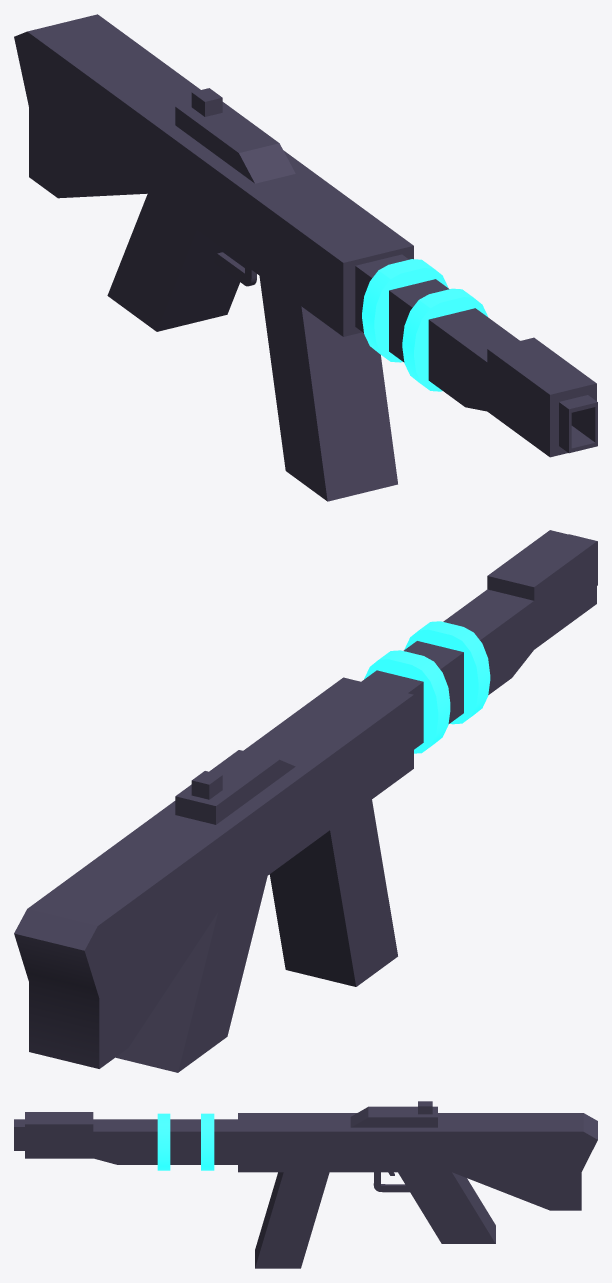
Rendered from Assualt Rifle.fbx.
3 renders of one model, top to bottom at view 1: azimuth 30°, elevation 25°; view 2: azimuth 150°, elevation 25°; view 3: azimuth 270°, elevation 25°, orthographic. The views are drawn at different scales.
Parts seen in each view (by area): view 1: Cube; view 2: Cube; view 3: Cube.
Boxes of the visible parts, x1=… form: Cube: x1=14, y1=14, x2=597, y2=501; Cube: x1=14, y1=530, x2=597, y2=1072; Cube: x1=14, y1=1101, x2=597, y2=1268.
Bounding box in the file's own units: 40.31 × 144 × 490.
